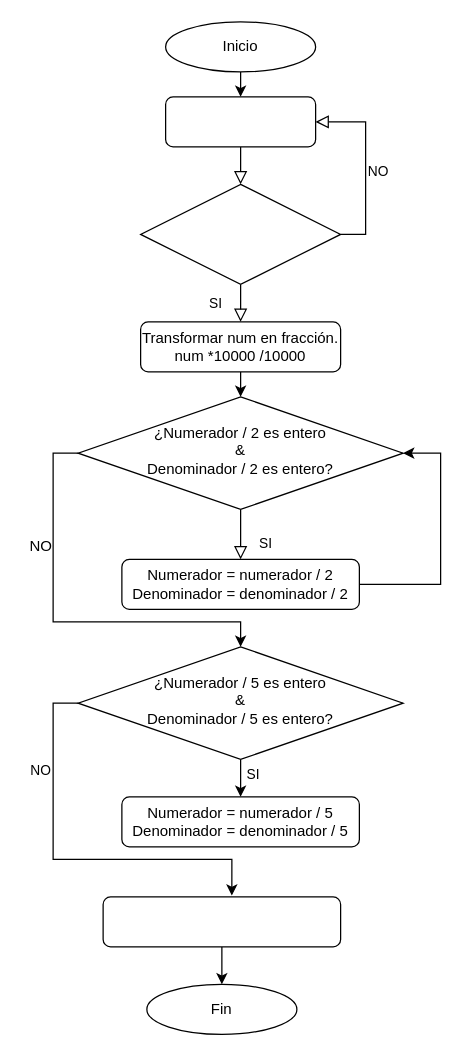
The diagram is 473 pixels wide and 1056 high, and some of its shapes have lost their labels. Each missing label, with the box of its shape:
0,0001 <= num <= 0,0009: (139, 183, 341, 284)
Mostrar fracción irreducible Numerador / Denominador: (102, 896, 341, 947)
Obtener num decimal: (164, 96, 316, 147)
